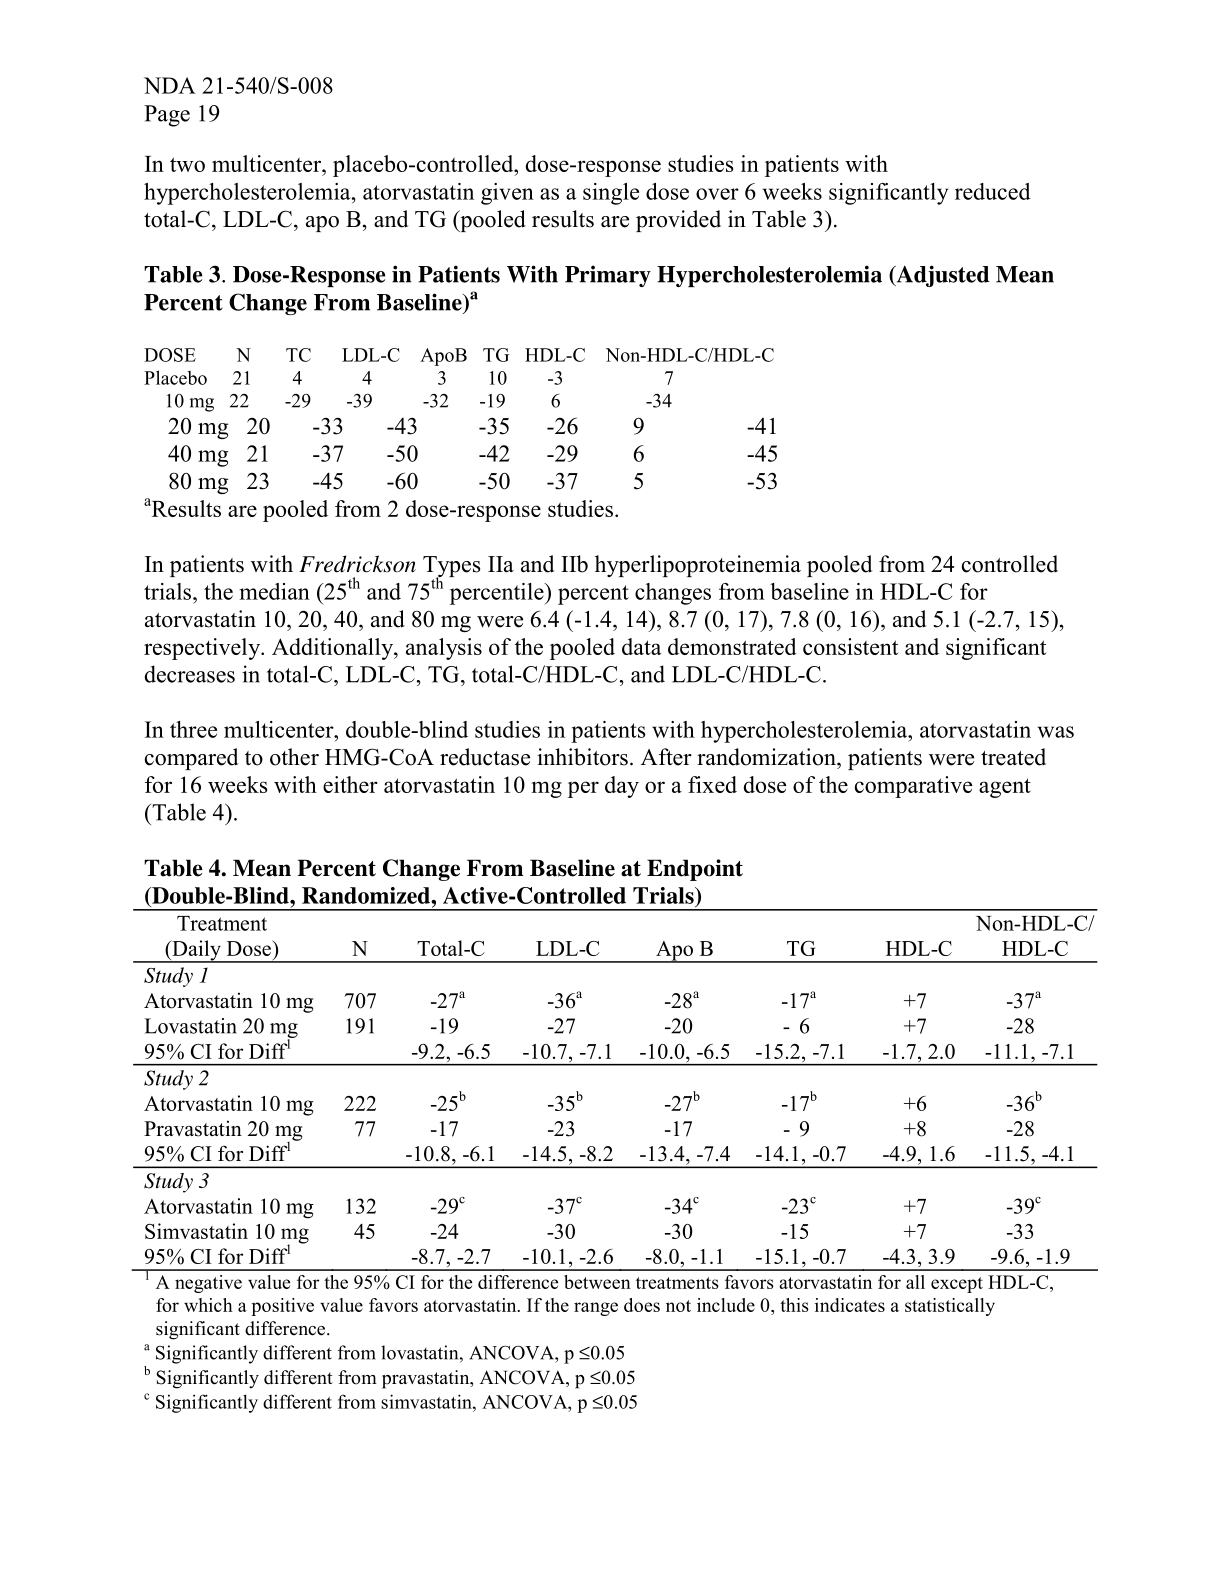nolines: (141, 342, 783, 492)
partial_lined: (130, 906, 1097, 1273)
